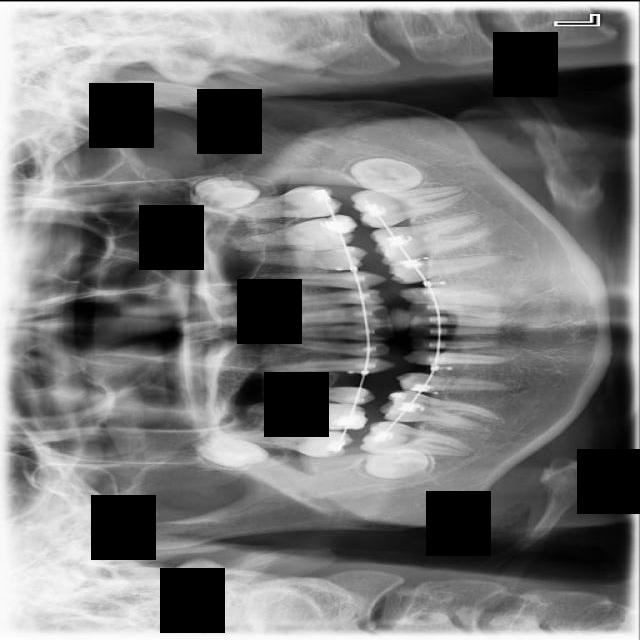3M ESPE Implant: (187, 430, 272, 472)
73: (587, 31, 601, 35)
BioHorizons Implant: (210, 183, 344, 222)
BioLife Implant: (187, 165, 264, 219)
Biomet 3i Implant: (349, 154, 424, 195)
Blue Sky Bio Implant: (348, 183, 473, 230)
Caries: (220, 429, 355, 457)
Implant: (359, 419, 475, 456)
Keystone Dental Implant: (363, 443, 429, 483)
